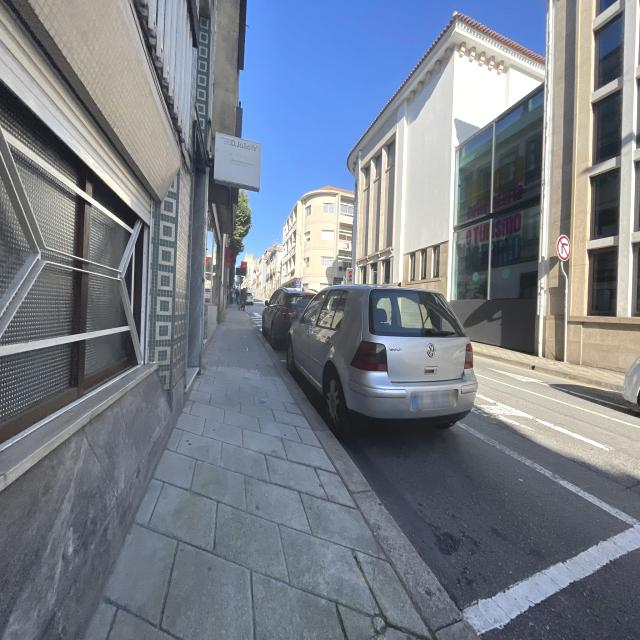car: (285, 281, 478, 437), (261, 286, 318, 350), (245, 291, 254, 304)
